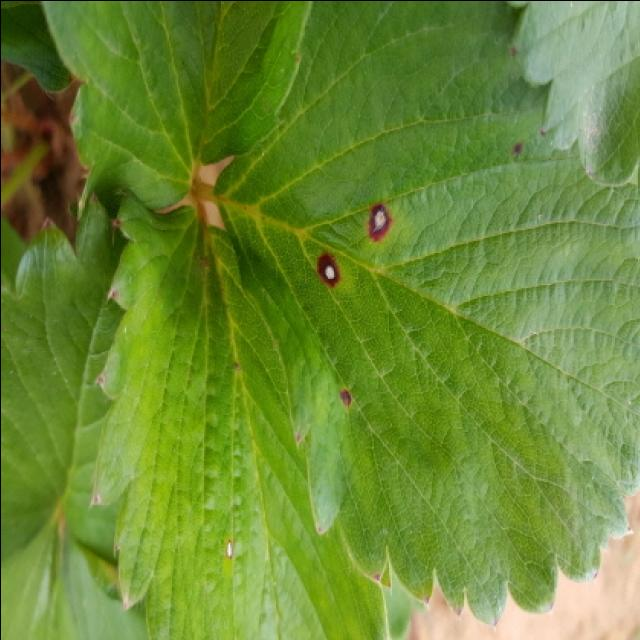Leaf Spot: (209, 2, 638, 626), (87, 186, 391, 640)
